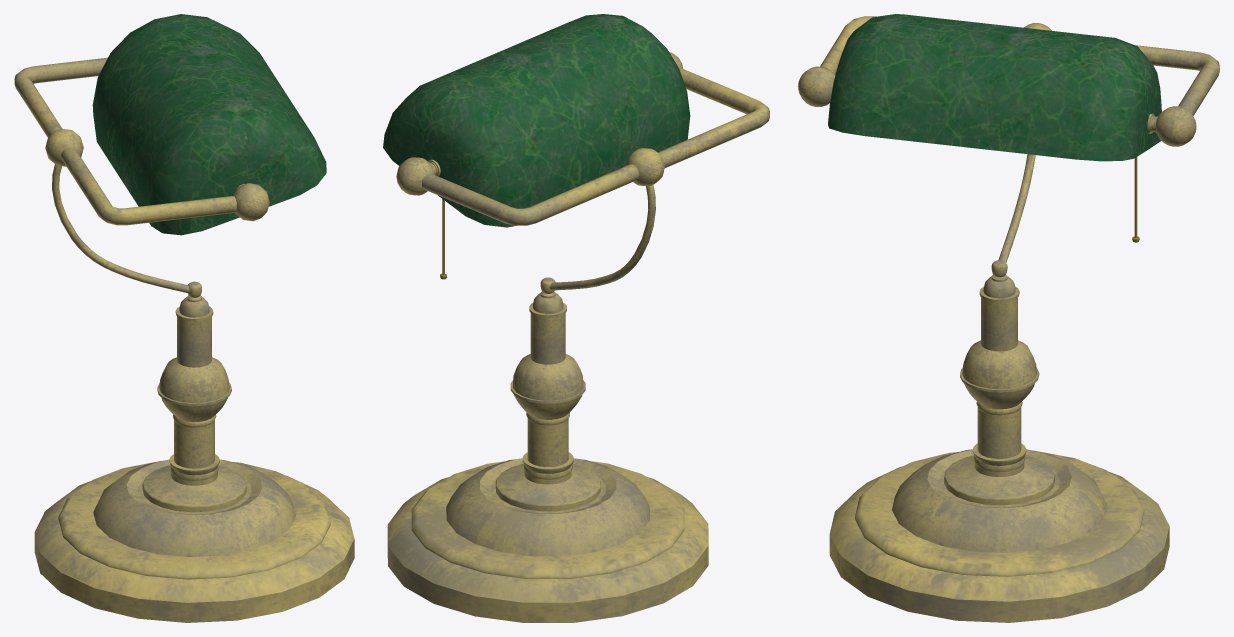
Rendered from Library_DeskLamp.fbx.
The picture shows the model from 3 angles, left to right: view 1: azimuth 30°, elevation 25°; view 2: azimuth 150°, elevation 25°; view 3: azimuth 270°, elevation 25°; orthographic projection. The views are drawn at different scales.
Parts seen in each view (by area): view 1: desk_lamp:pCylinder36; view 2: desk_lamp:pCylinder36; view 3: desk_lamp:pCylinder36.
Part boxes in pixels (x1,y1,x2,y2): desk_lamp:pCylinder36: (14,14,354,622); desk_lamp:pCylinder36: (383,14,769,622); desk_lamp:pCylinder36: (798,14,1219,622).
Bounding box in the file's own units: 31.02 × 49.85 × 36.35.
1 material, 1 textured.
